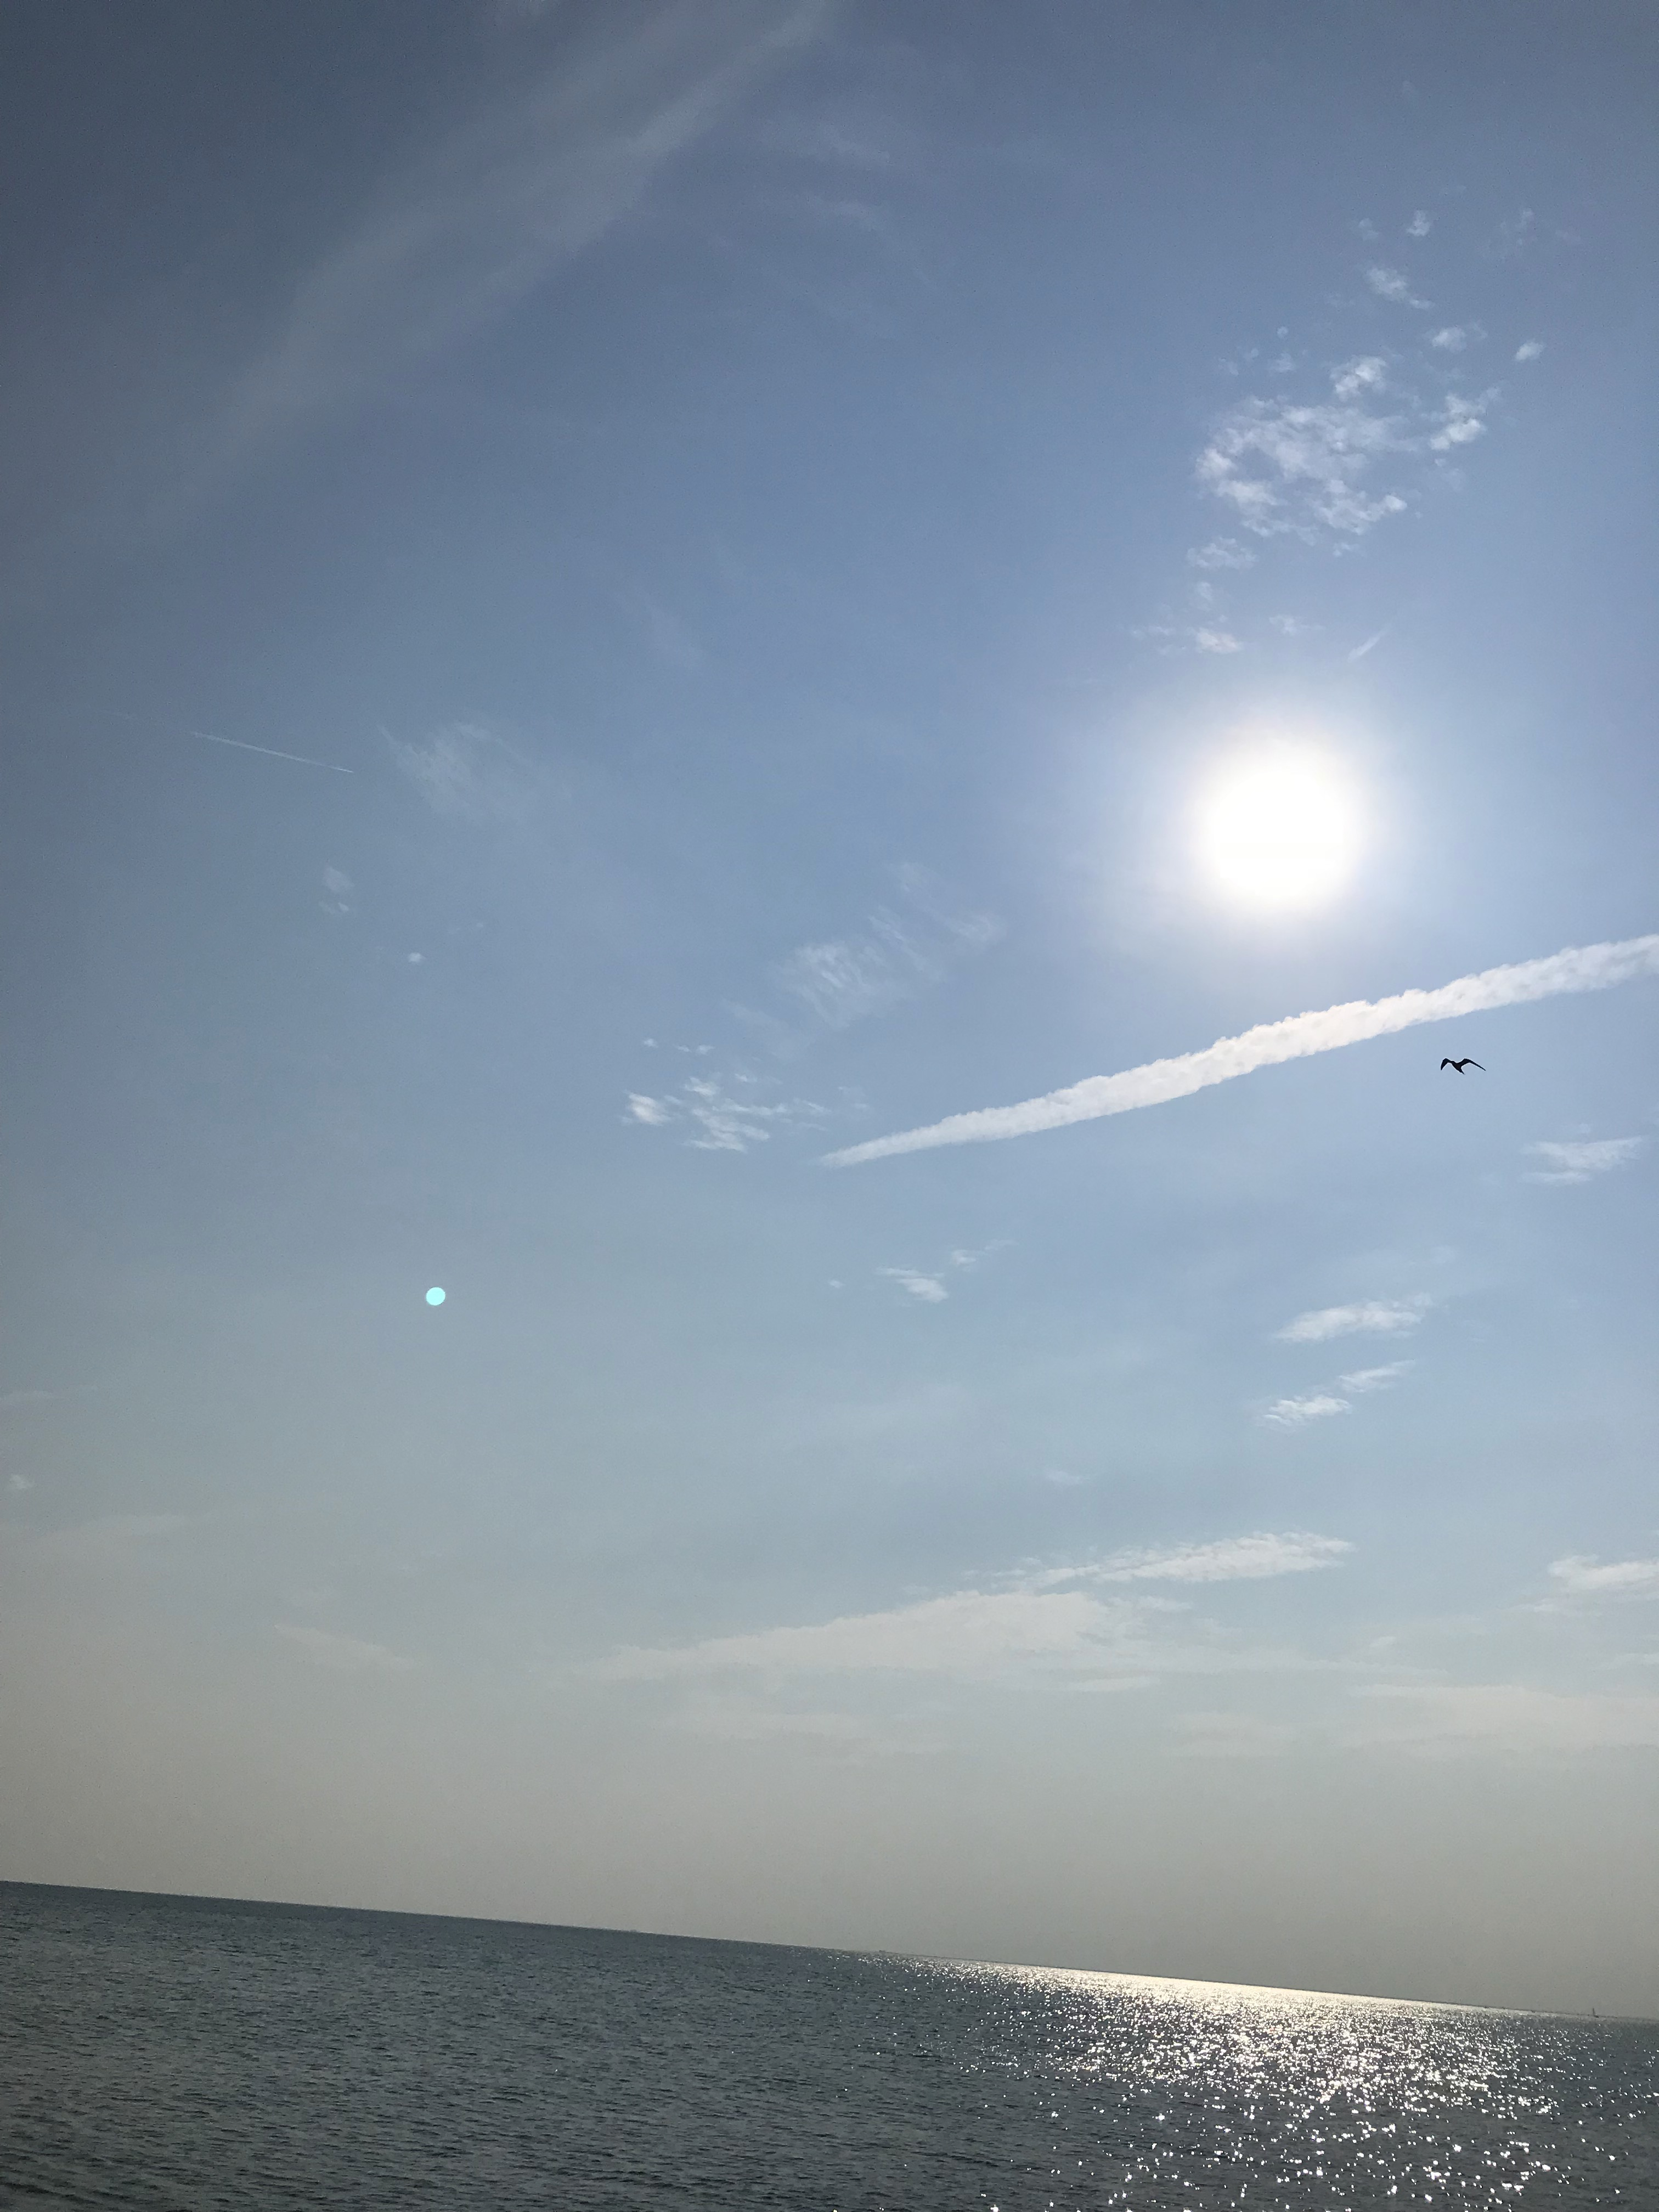flare: (423, 1285, 448, 1308)
